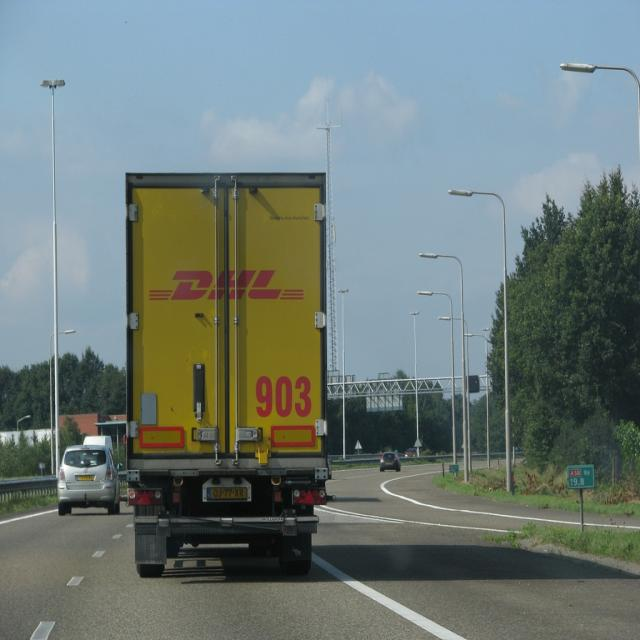dhl: (144, 266, 319, 308)
